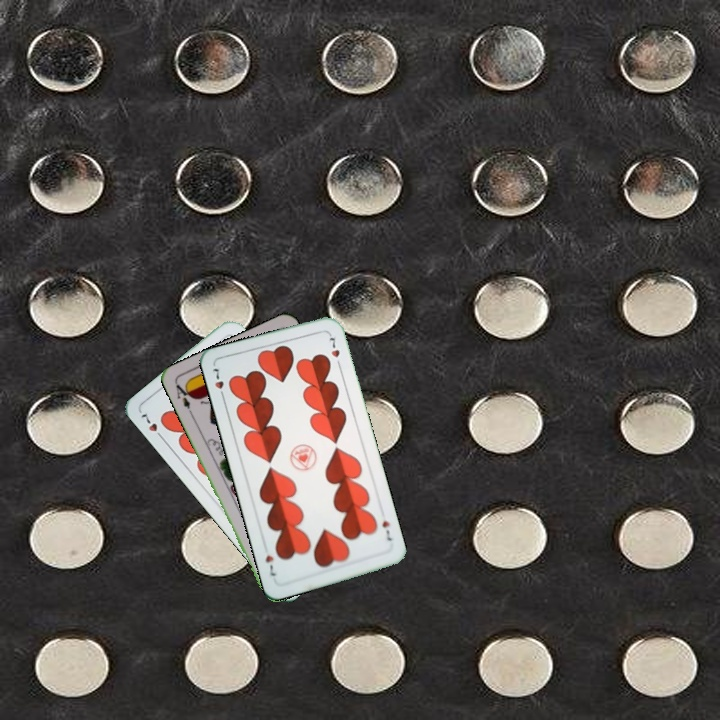EA: (170, 379, 195, 412)
H7: (137, 409, 167, 443), (208, 364, 228, 402), (378, 516, 396, 543)
